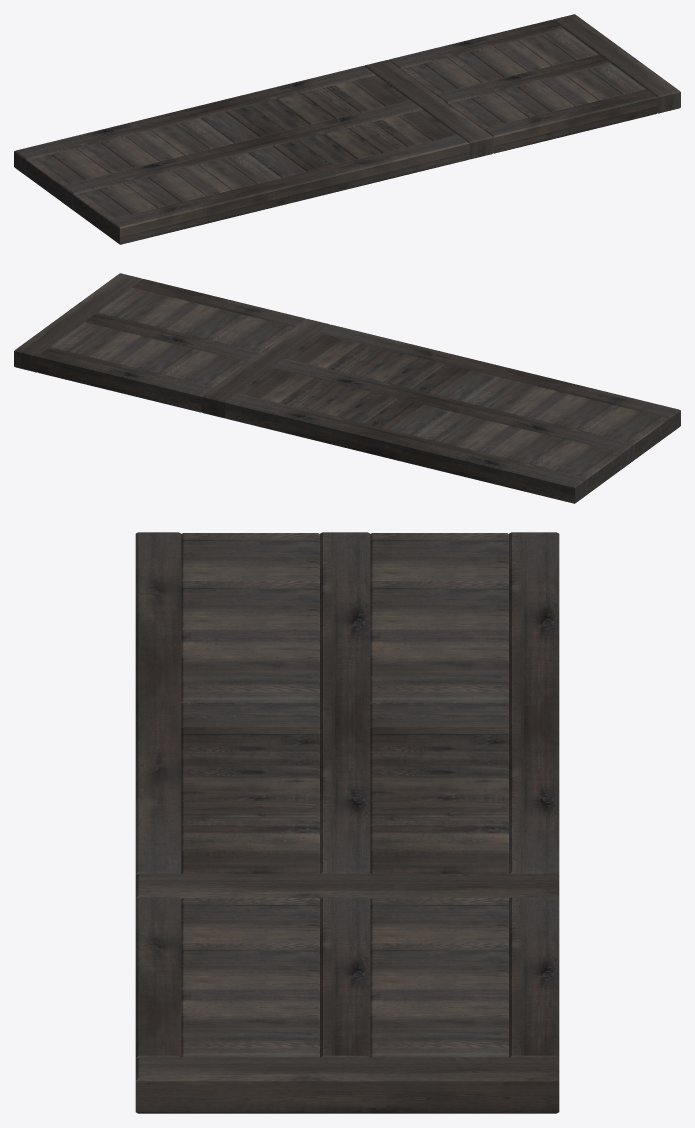
The model's file is SM_Unhyun_Norak_Floor_L001.fbx.
The picture shows the model from 3 angles, top to bottom: view 1: azimuth 30°, elevation 25°; view 2: azimuth 150°, elevation 25°; view 3: azimuth 270°, elevation 25°; orthographic projection. The views are drawn at different scales.
Visible parts, largest first — view 1: SM_Unhyun_Norak_Floor_L001; view 2: SM_Unhyun_Norak_Floor_L001; view 3: SM_Unhyun_Norak_Floor_L001.
Part boxes in pixels (bbox=[...]): SM_Unhyun_Norak_Floor_L001: bbox=[14, 14, 680, 244]; SM_Unhyun_Norak_Floor_L001: bbox=[14, 273, 680, 503]; SM_Unhyun_Norak_Floor_L001: bbox=[135, 532, 559, 1113].
Bounding box in the file's own units: 391 × 11.89 × 128.
